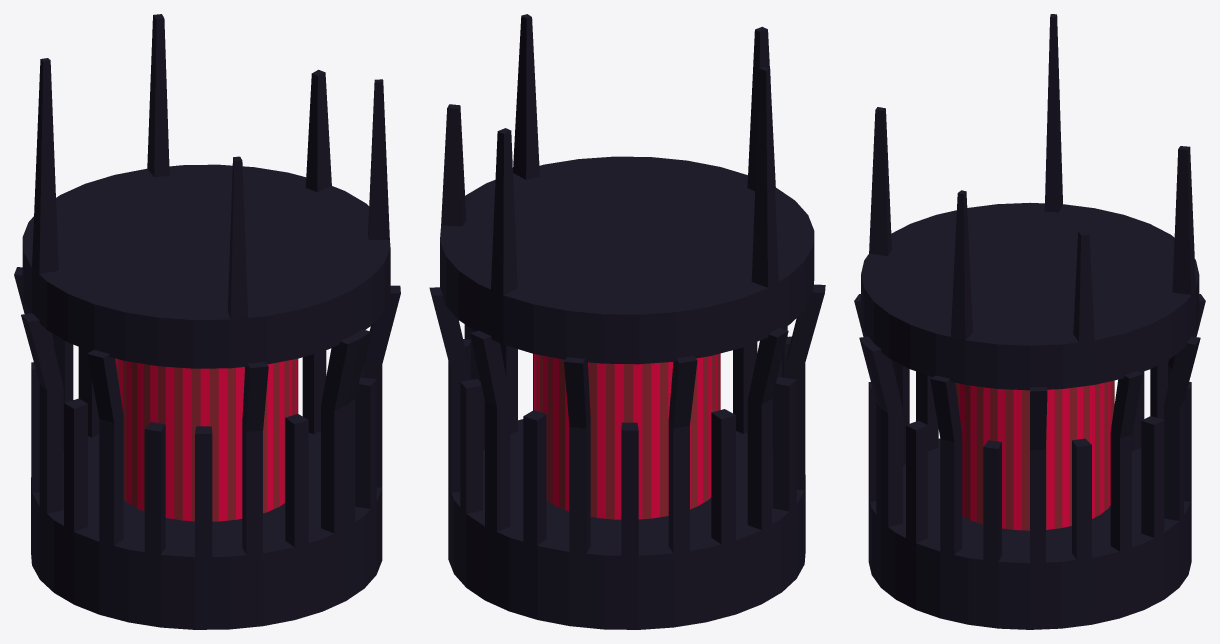
The model's file is alientThing.glb.
3 renders of one model, left to right at view 1: azimuth 30°, elevation 25°; view 2: azimuth 150°, elevation 25°; view 3: azimuth 270°, elevation 25°, orthographic. The views are drawn at different scales.
Parts seen in each view (by area): view 1: Cylinder; view 2: Cylinder; view 3: Cylinder.
Part boxes in pixels (x1,y1,x2,y2): Cylinder: [14, 14, 400, 629]; Cylinder: [429, 14, 825, 629]; Cylinder: [854, 14, 1205, 629].
Size of the model in its own units: 3.43 by 5.08 by 3.38.
1 material, 1 textured.
